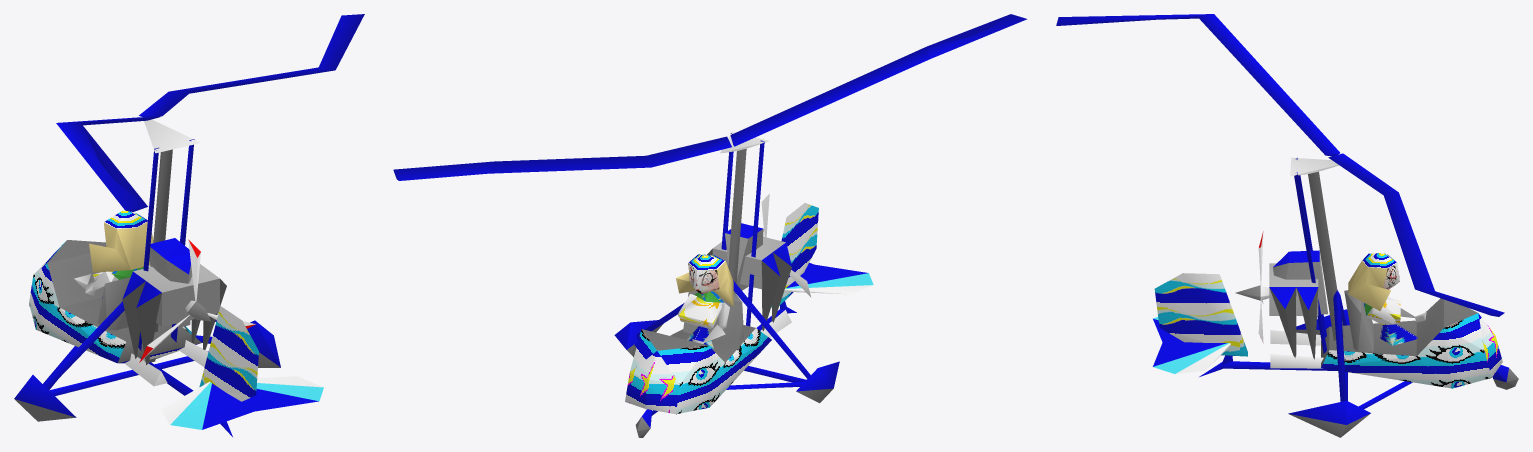
Rendered from uvmd-0315.glb.
The picture shows the model from 3 angles, left to right: view 1: azimuth 30°, elevation 25°; view 2: azimuth 150°, elevation 25°; view 3: azimuth 270°, elevation 25°; orthographic projection. The views are drawn at different scales.
Visible parts, largest first — view 1: uvmd-0315; view 2: uvmd-0315; view 3: uvmd-0315.
Part boxes in pixels (x1=…): uvmd-0315: x1=14, y1=14, x2=364, y2=436; uvmd-0315: x1=393, y1=14, x2=1027, y2=437; uvmd-0315: x1=1056, y1=14, x2=1518, y2=437.
Bounding box in the file's own units: 393 × 281 × 376.
8 materials, 8 textured.
